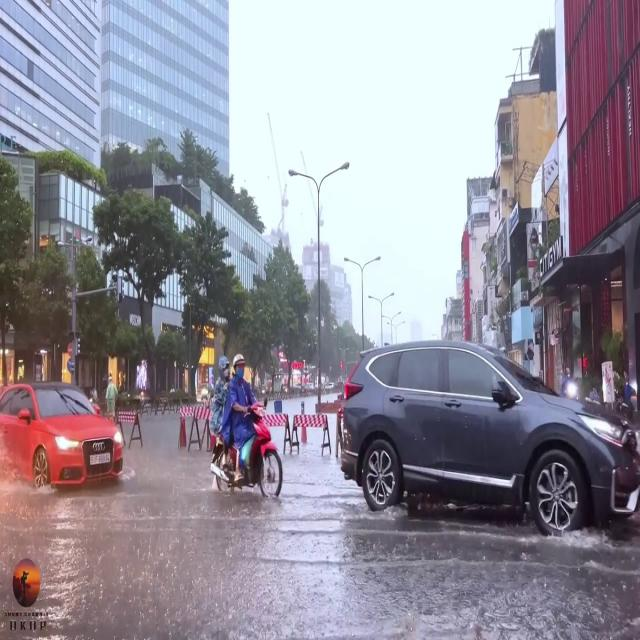bien_trang: (86, 452, 111, 468)
